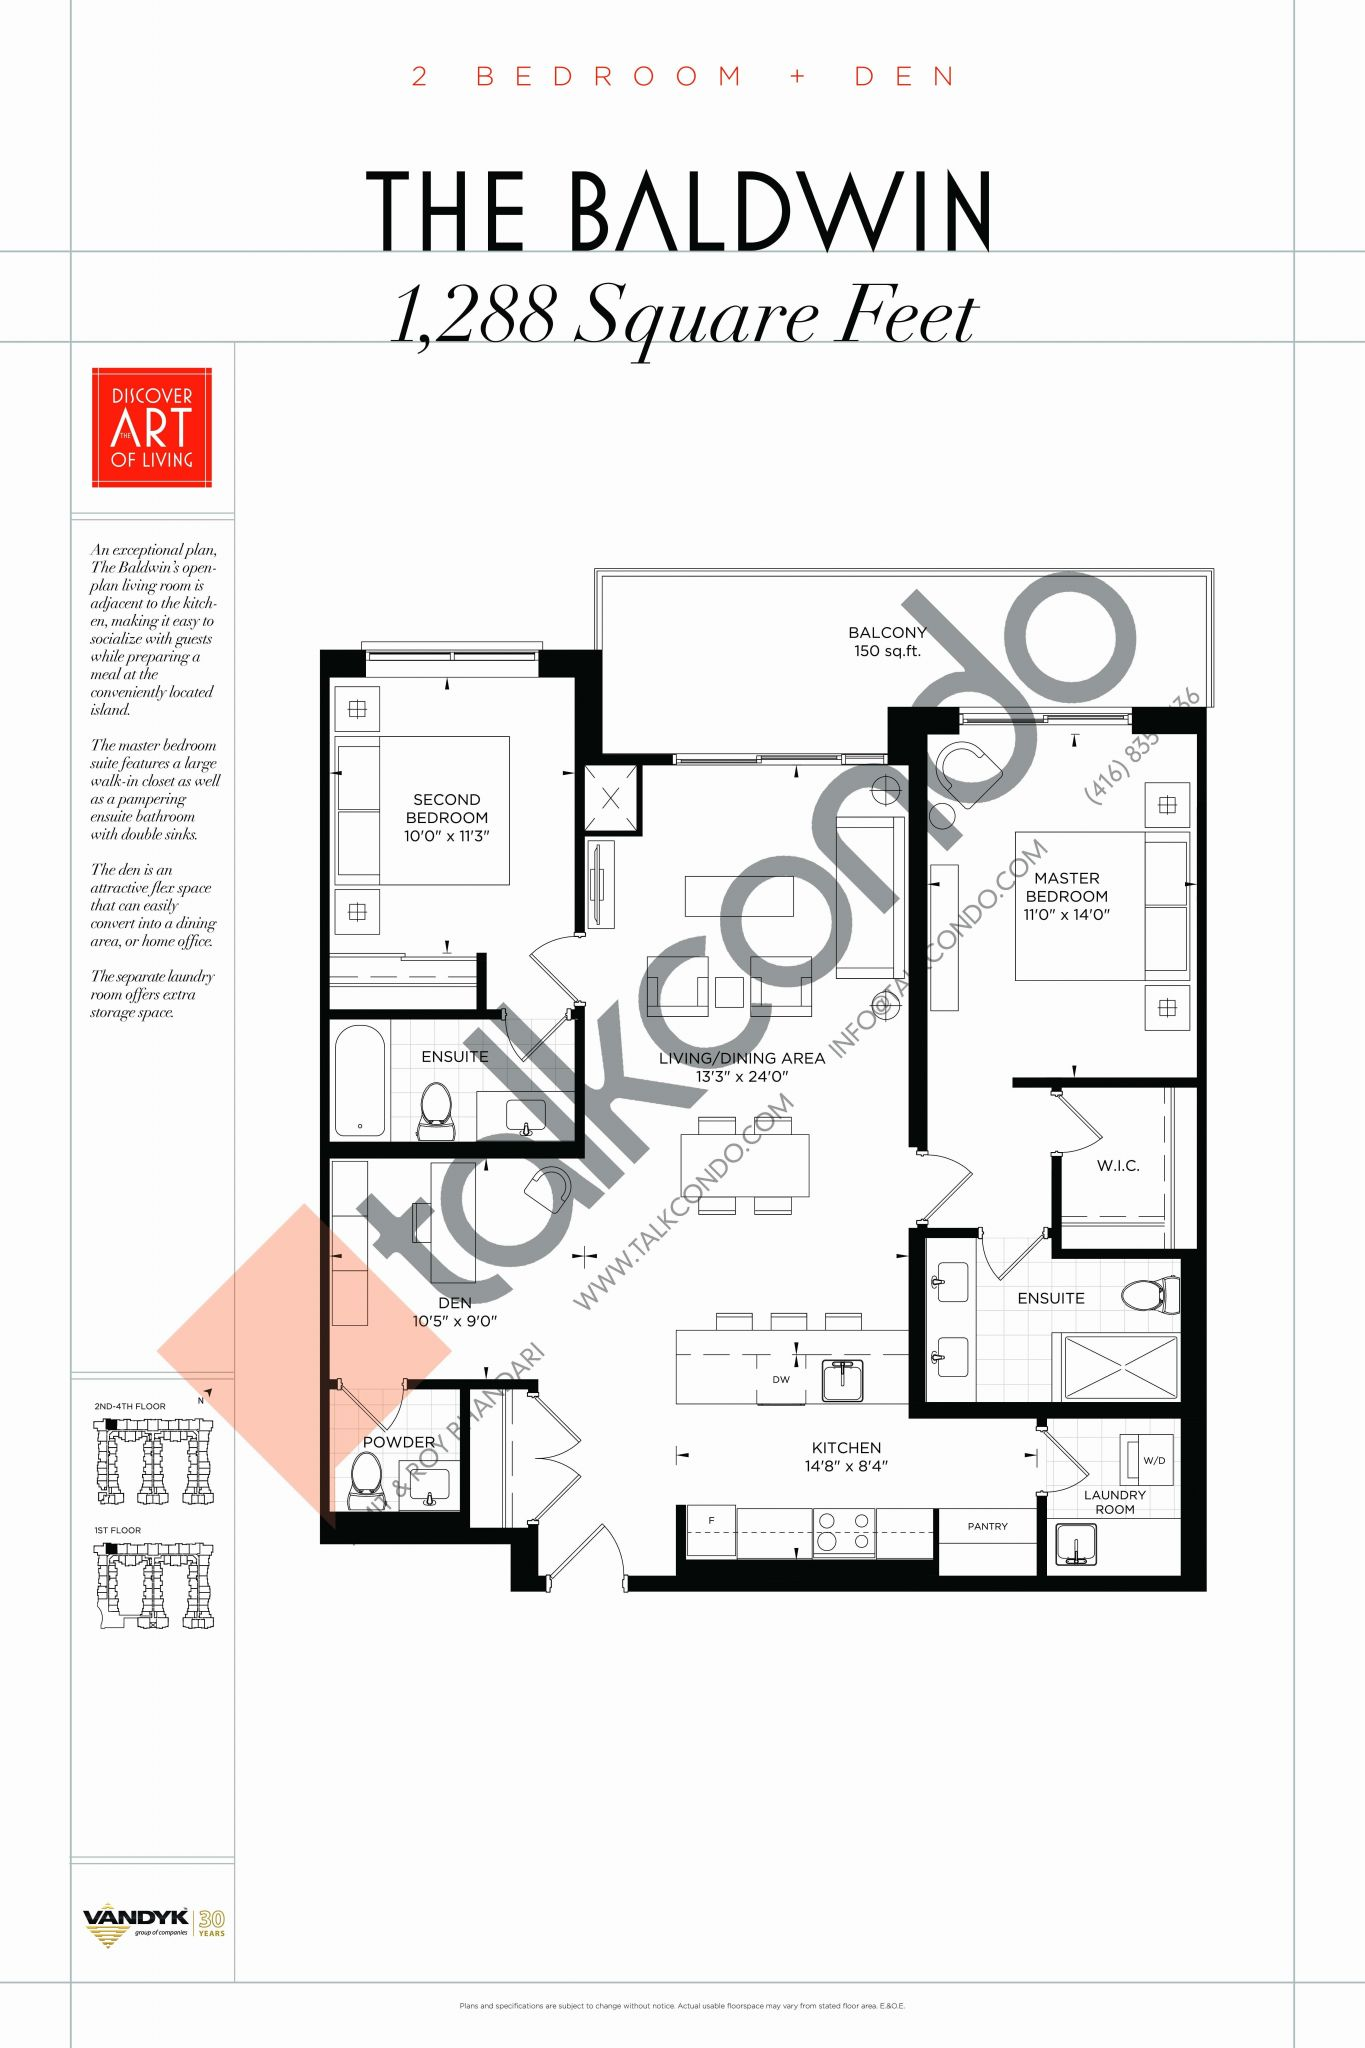window: (360, 636, 545, 682), (957, 700, 1133, 735), (670, 748, 891, 770)
